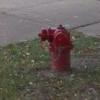Hydrant: (30, 15, 72, 76)
